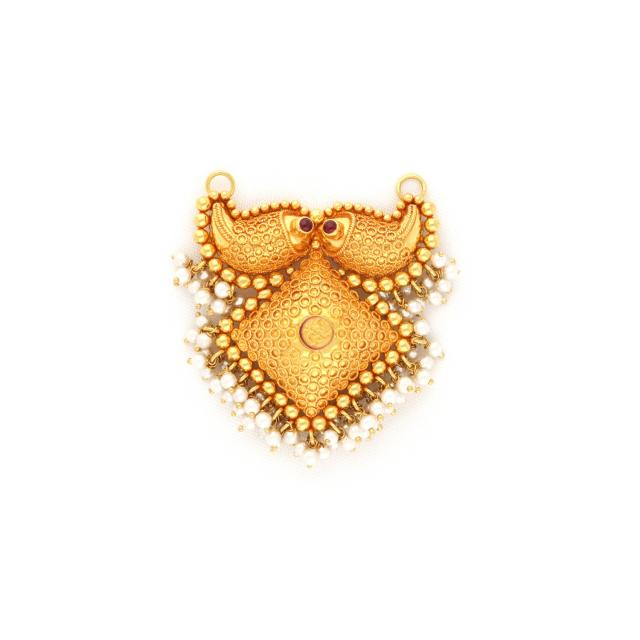missing gem: (299, 316, 334, 349)
